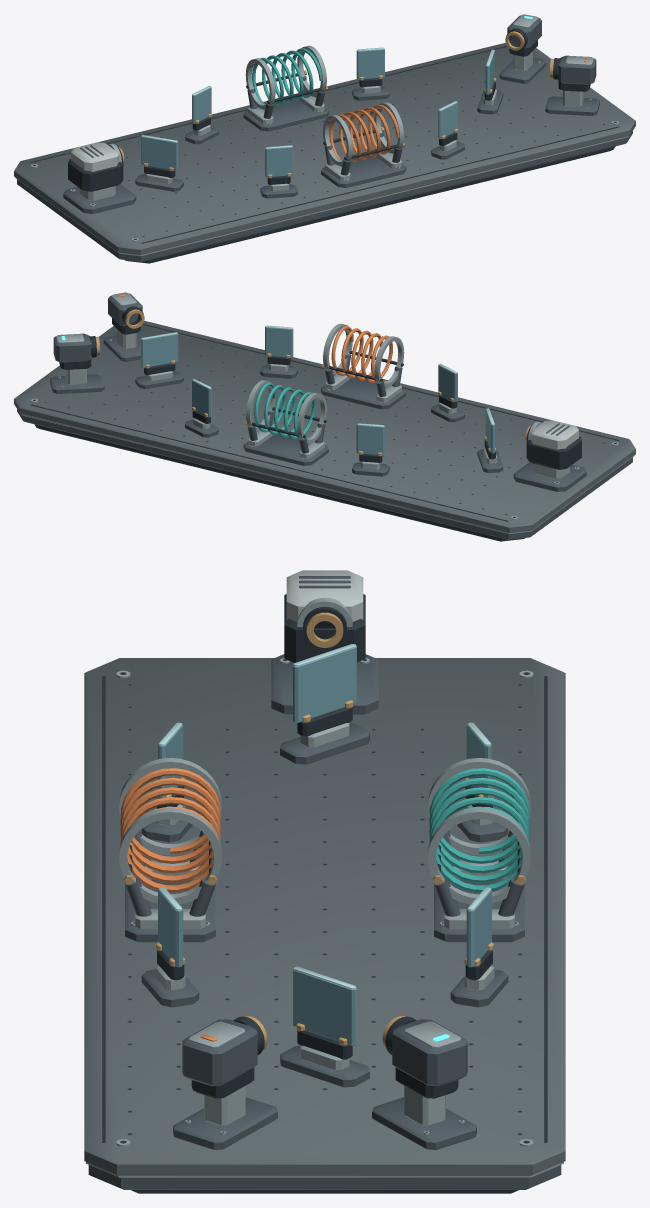
File: interferometer.glb
3 views of the same model, one above another, from view 1: azimuth 30°, elevation 25°; view 2: azimuth 150°, elevation 25°; view 3: azimuth 270°, elevation 25° (orthographic). The views are drawn at different scales.
Visible parts, largest first — view 1: Optical table, Neutron source and collimator, Upper field coil support, Lower field coil support, Lower neutron detector, Upper neutron detector, Entrance beam splitter, Lower field coil winding, Upper field coil winding, Lower entrance deflector, Upper exit deflector, Upper entrance deflector (+3 smaller); view 2: Optical table, Neutron source and collimator, Lower field coil support, Upper field coil support, Upper neutron detector, Exit analyser, Lower neutron detector, Upper field coil winding, Lower field coil winding, Upper entrance deflector, Lower exit deflector, Upper exit deflector (+3 smaller); view 3: Optical table, Neutron source and collimator, Upper neutron detector, Lower neutron detector, Upper field coil support, Lower field coil support, Entrance beam splitter, Exit analyser, Lower field coil winding, Upper field coil winding, Upper exit deflector, Lower exit deflector (+3 smaller).
Boxes of the visible parts, x1=… form: Optical table: x1=14, y1=43, x2=635, y2=263; Neutron source and collimator: x1=63, y1=142, x2=136, y2=213; Upper field coil support: x1=243, y1=45, x2=328, y2=131; Lower field coil support: x1=321, y1=102, x2=406, y2=187; Lower neutron detector: x1=545, y1=55, x2=599, y2=115; Upper neutron detector: x1=499, y1=14, x2=546, y2=83; Entrance beam splitter: x1=135, y1=135, x2=183, y2=191; Lower field coil winding: x1=329, y1=104, x2=399, y2=161; Upper field coil winding: x1=252, y1=48, x2=322, y2=105; Lower entrance deflector: x1=260, y1=145, x2=297, y2=198; Upper exit deflector: x1=352, y1=47, x2=389, y2=100; Upper entrance deflector: x1=185, y1=85, x2=218, y2=144; Optical table: x1=14, y1=321, x2=635, y2=541; Neutron source and collimator: x1=513, y1=420, x2=586, y2=491; Lower field coil support: x1=321, y1=323, x2=406, y2=409; Upper field coil support: x1=243, y1=380, x2=328, y2=465; Upper neutron detector: x1=50, y1=333, x2=104, y2=393; Exit analyser: x1=135, y1=332, x2=183, y2=389; Lower neutron detector: x1=103, y1=292, x2=144, y2=361; Upper field coil winding: x1=254, y1=382, x2=315, y2=439; Lower field coil winding: x1=331, y1=326, x2=392, y2=383; Upper entrance deflector: x1=352, y1=423, x2=389, y2=476; Lower exit deflector: x1=260, y1=325, x2=297, y2=378; Upper exit deflector: x1=185, y1=379, x2=218, y2=437; Optical table: x1=84, y1=658, x2=565, y2=1193; Neutron source and collimator: x1=271, y1=570, x2=378, y2=714; Upper neutron detector: x1=372, y1=1016, x2=476, y2=1149; Lower neutron detector: x1=173, y1=1016, x2=277, y2=1149; Upper field coil support: x1=428, y1=758, x2=530, y2=942; Lower field coil support: x1=119, y1=758, x2=221, y2=942; Entrance beam splitter: x1=280, y1=644, x2=369, y2=764; Exit analyser: x1=280, y1=966, x2=369, y2=1087; Lower field coil winding: x1=120, y1=768, x2=220, y2=892; Upper field coil winding: x1=429, y1=768, x2=529, y2=892; Upper exit deflector: x1=450, y1=887, x2=508, y2=1007; Lower exit deflector: x1=141, y1=887, x2=199, y2=1007.
Bounding box in the file's own units: 7.36 × 1.17 × 2.96.
